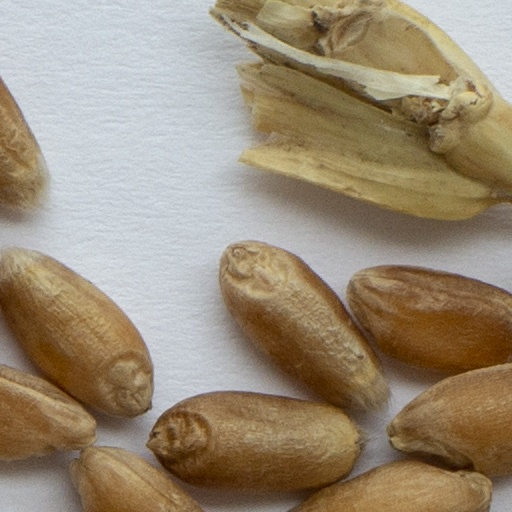Peel-poly: (205, 0, 511, 225)
